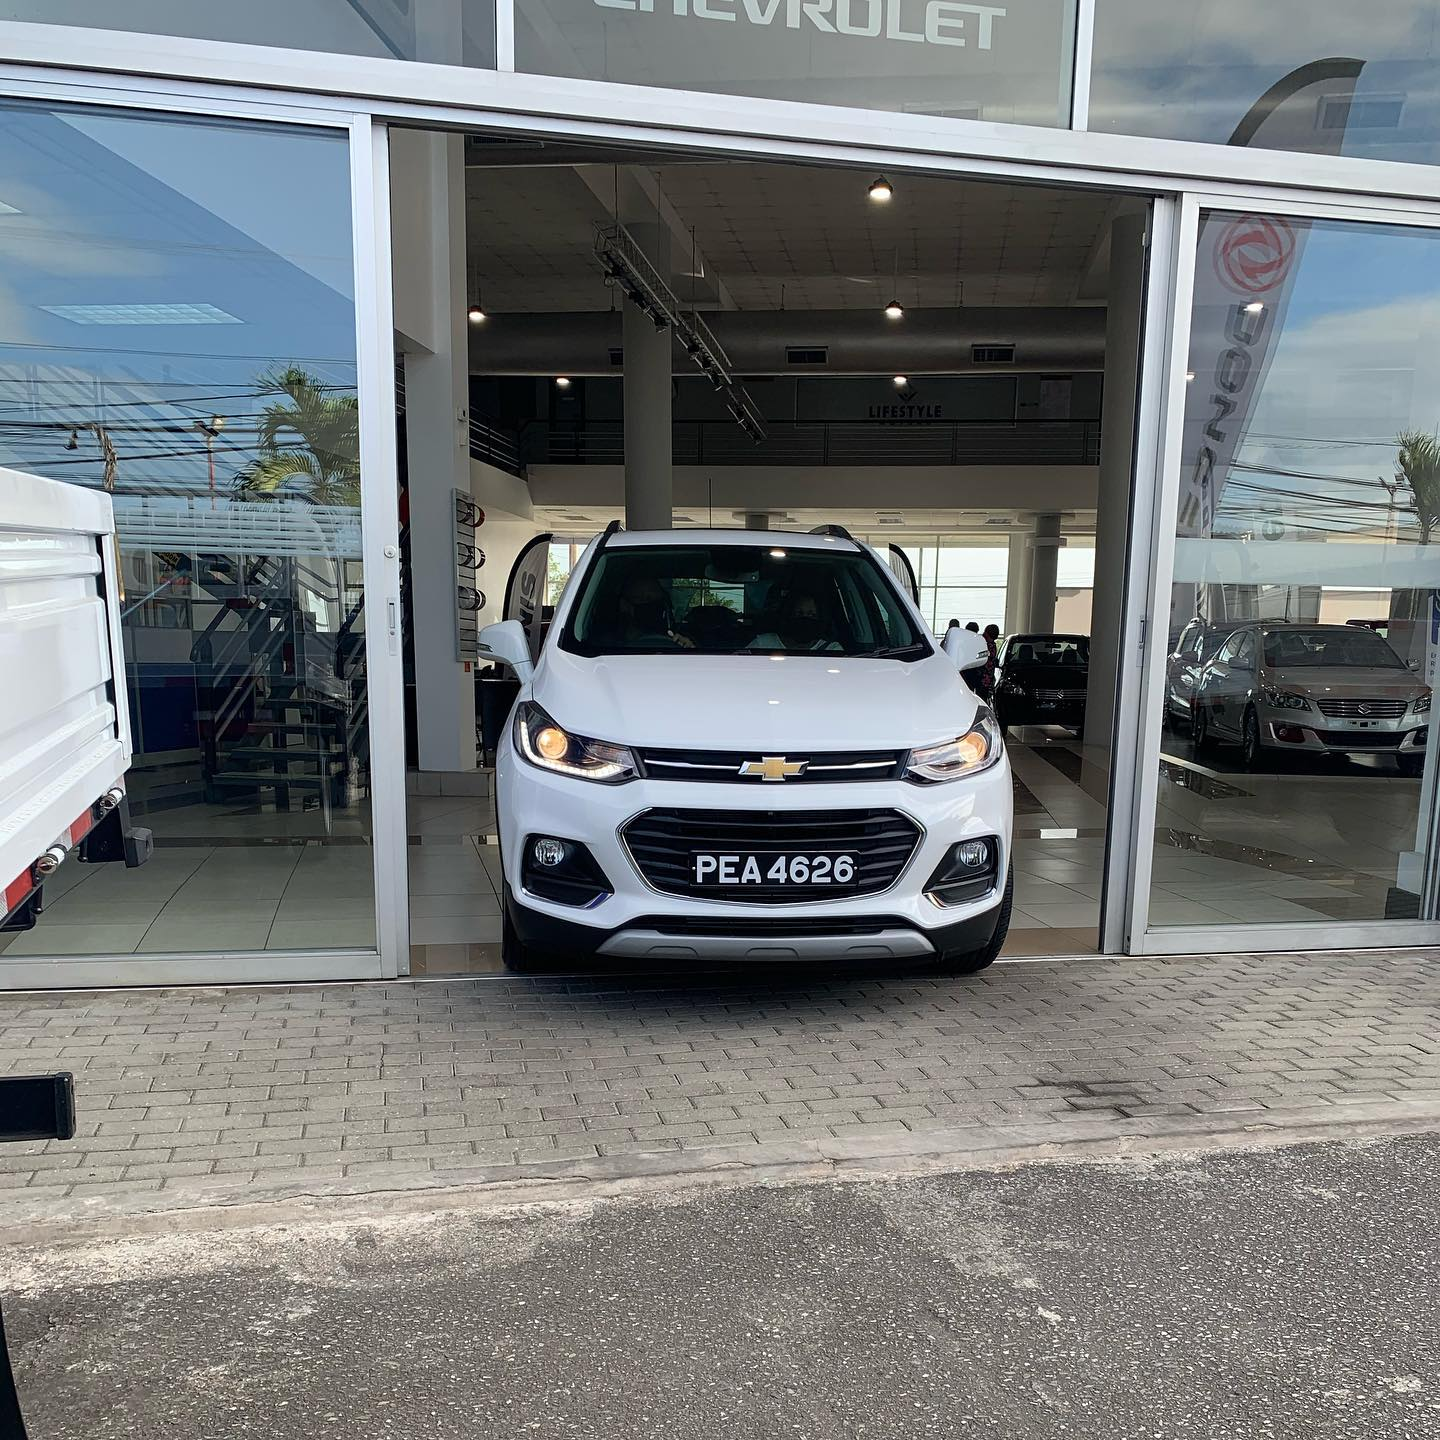License-Plate: (689, 850, 857, 884)
